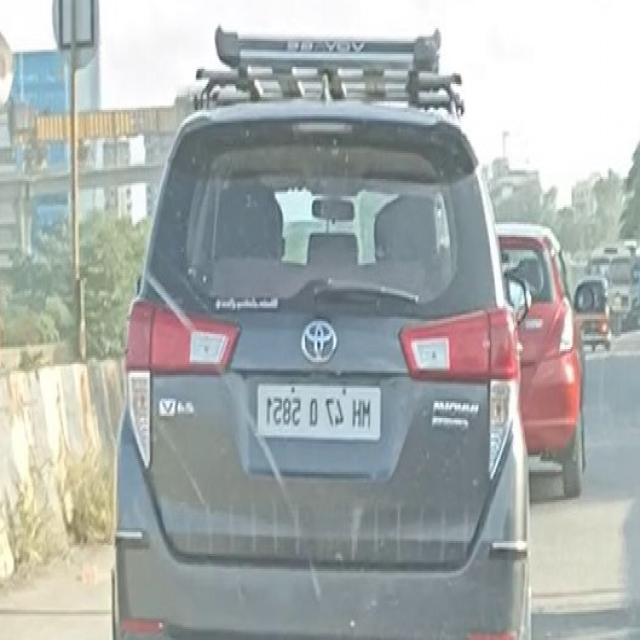license_plate: (254, 375, 386, 448)
